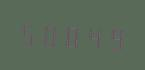eight: (60, 19, 80, 50)
five: (18, 17, 38, 48)
four: (81, 20, 101, 51)
nine: (102, 21, 122, 52)
zero: (39, 18, 59, 49)
